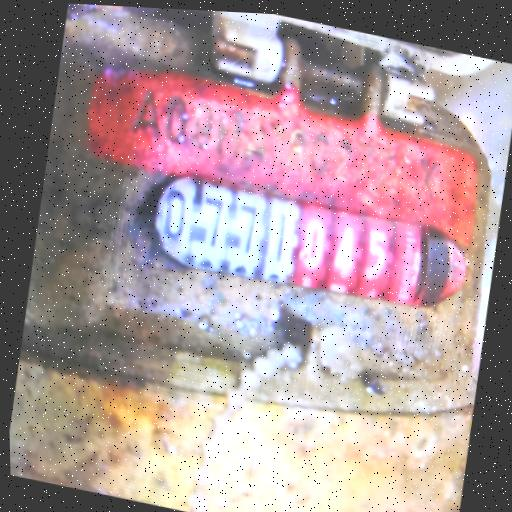0: (147, 169, 199, 265), (291, 202, 336, 290)
1: (260, 196, 306, 285)
4: (323, 208, 371, 295)
5: (355, 215, 400, 302)
7: (182, 180, 237, 272), (221, 188, 274, 278)
border_water_meter_number: (147, 166, 473, 322)
